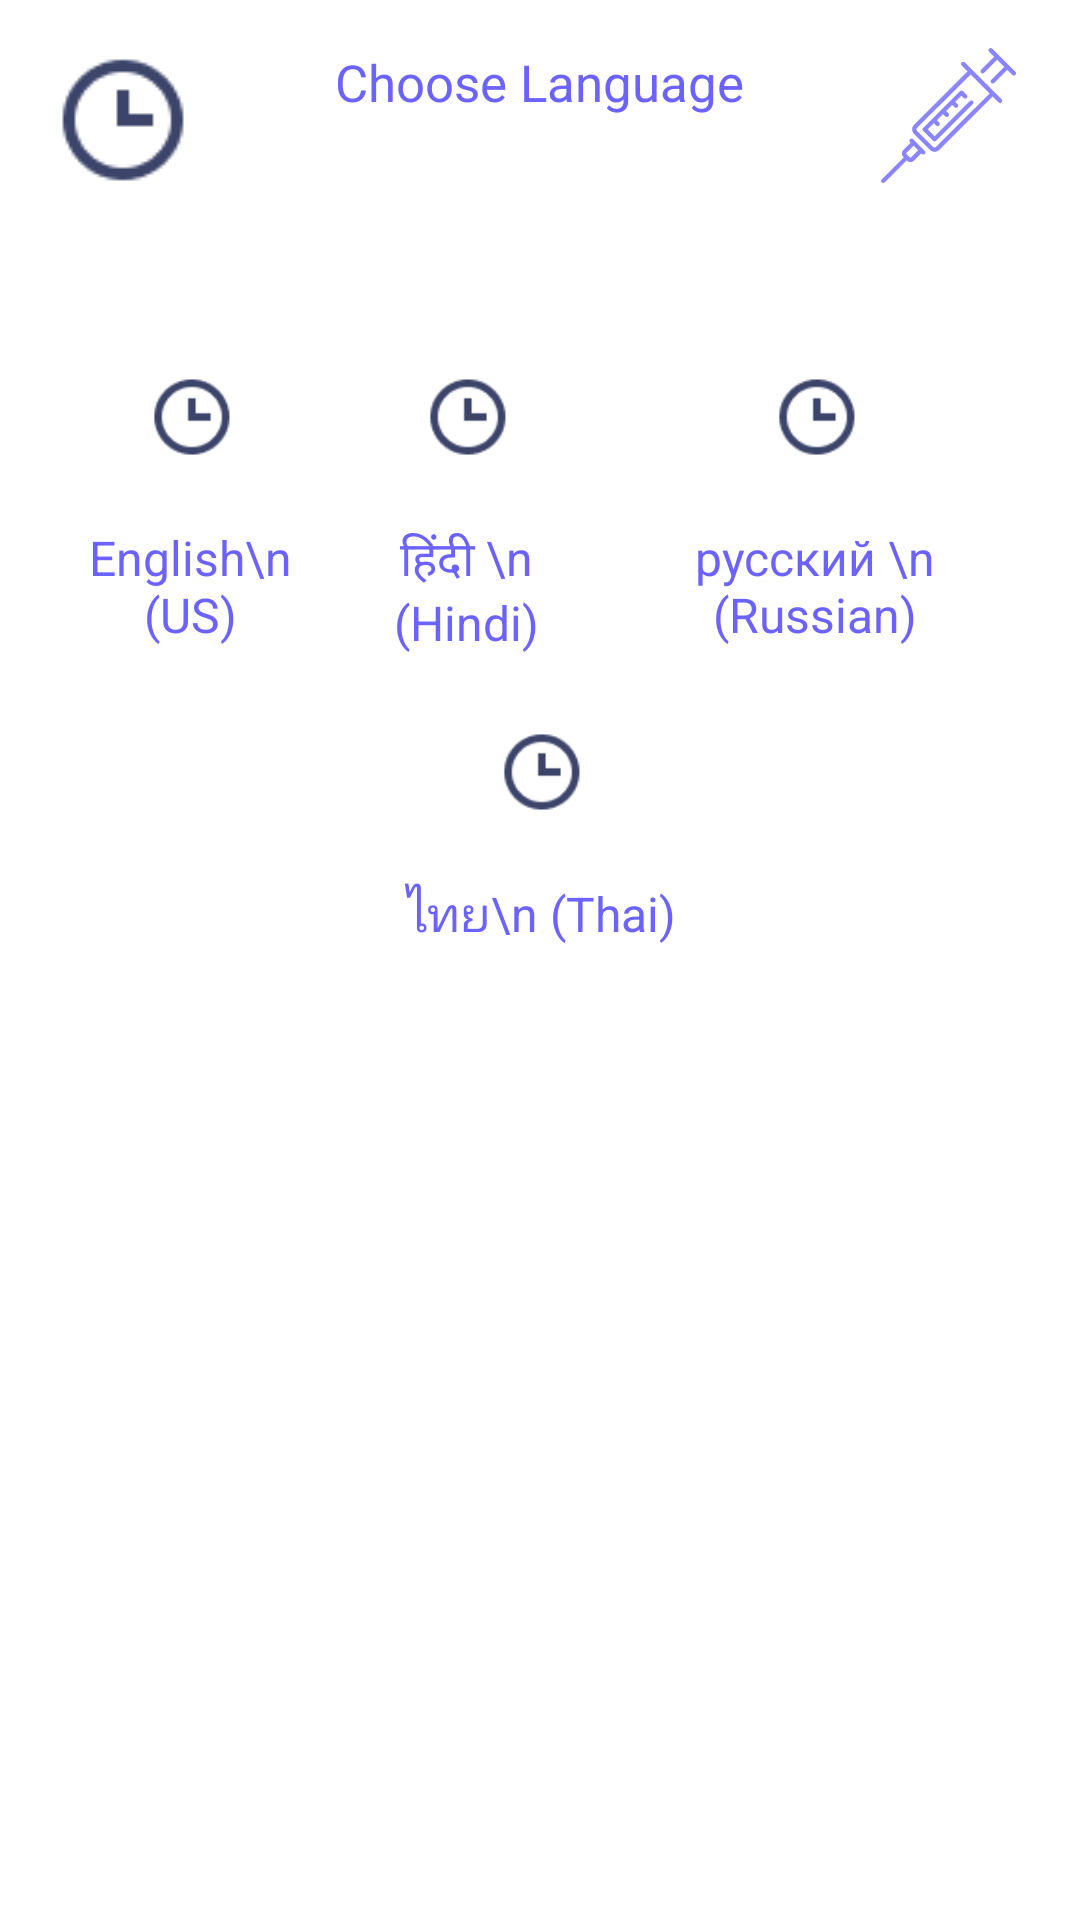

Icon click points for this 1080*1920 phone screenshot, format [x,y]:
time: [123,120], [192,417], [468,417], [817,417], [542,772]
